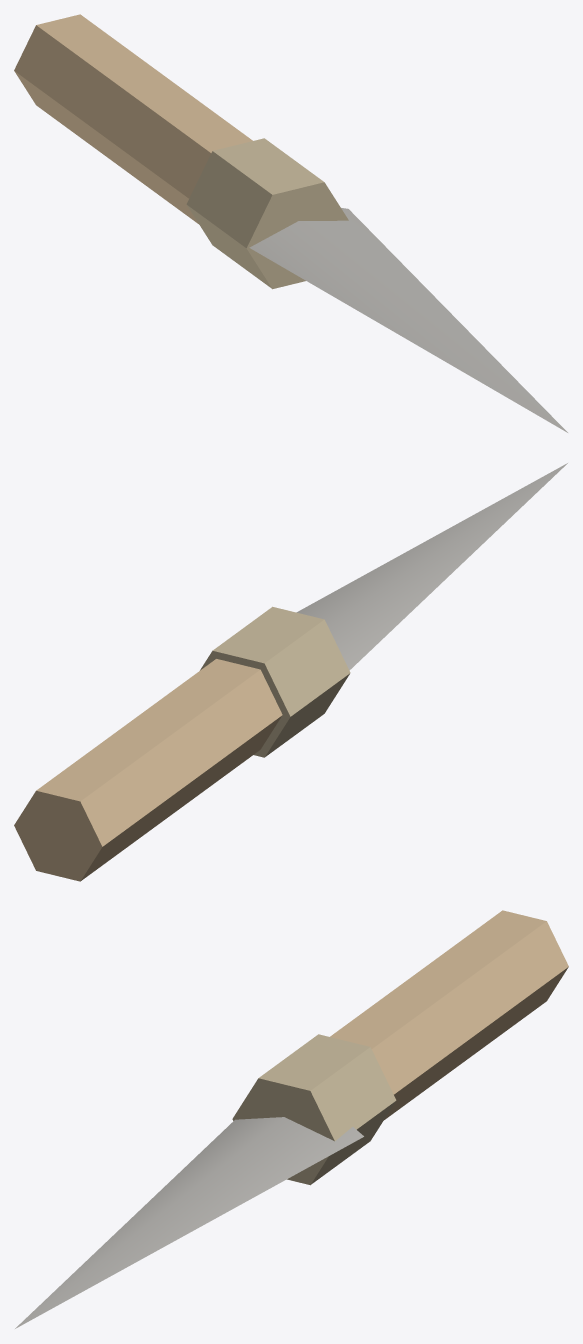
File: stone_knife.glb
3 views of the same model, one above another, from view 1: azimuth 30°, elevation 25°; view 2: azimuth 150°, elevation 25°; view 3: azimuth 330°, elevation 25° (orthographic).
Visible parts, largest first — view 1: Knife; view 2: Knife; view 3: Knife.
Boxes of the visible parts, bbox=[...] form: Knife: bbox=[14, 14, 567, 432]; Knife: bbox=[14, 463, 567, 881]; Knife: bbox=[15, 910, 568, 1328].
Size of the model in its own units: 0.045 by 0.0346 by 0.34.
